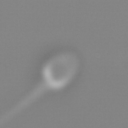normal: (1, 80, 46, 126)
